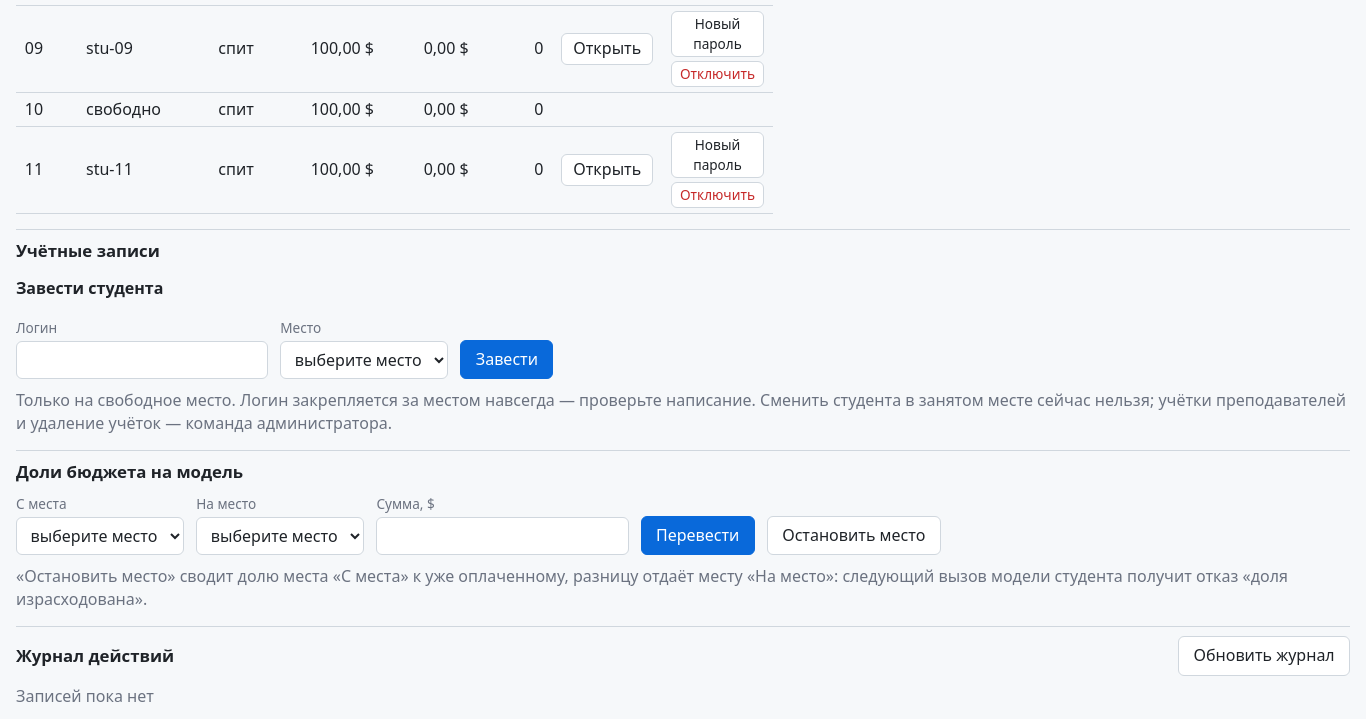
Test: stop_place_button_calls_server_and_reloads
(page scrolled)
Select "03 — stu-03" in the dropdown labelled "С места" at (100, 536), box left=16, top=517, right=184, bottom=555
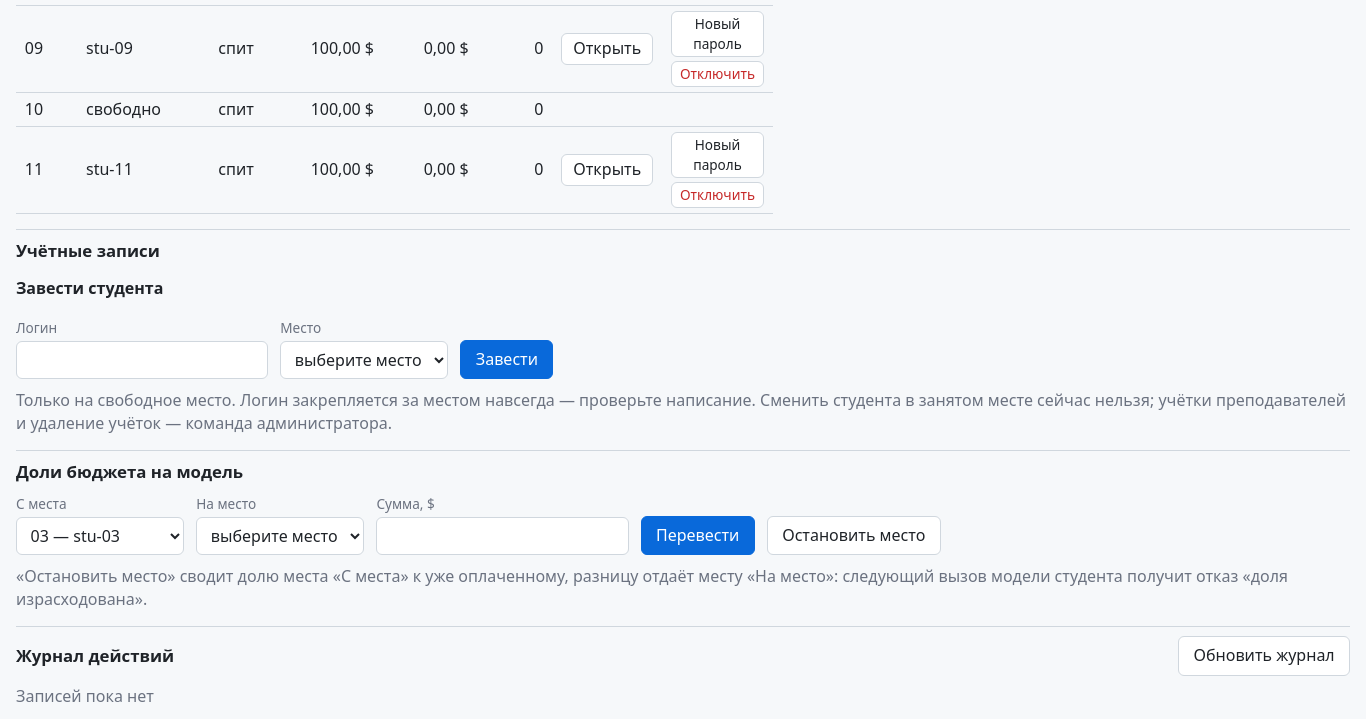
Select "05 — stu-05" in the dropdown labelled "На место" at (280, 536), box left=196, top=517, right=364, bottom=555
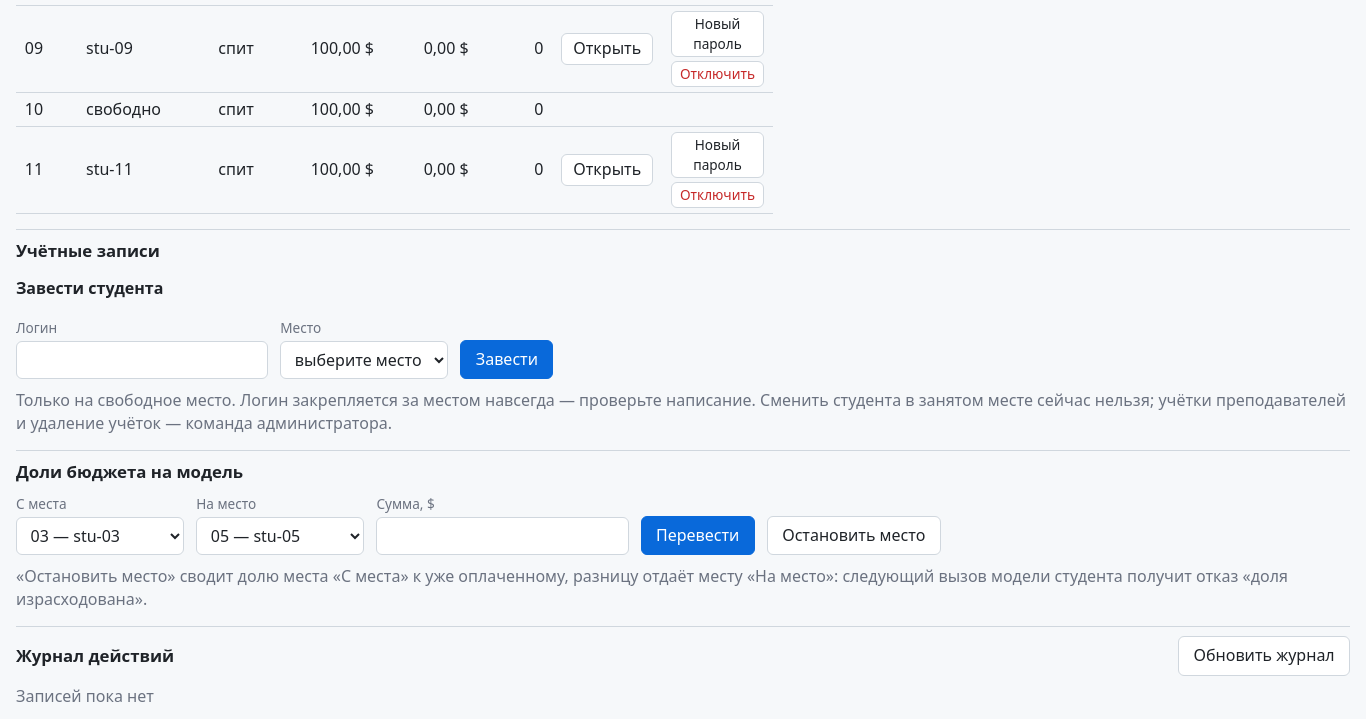
Click the button "Остановить место" at (854, 536), box left=767, top=516, right=941, bottom=555
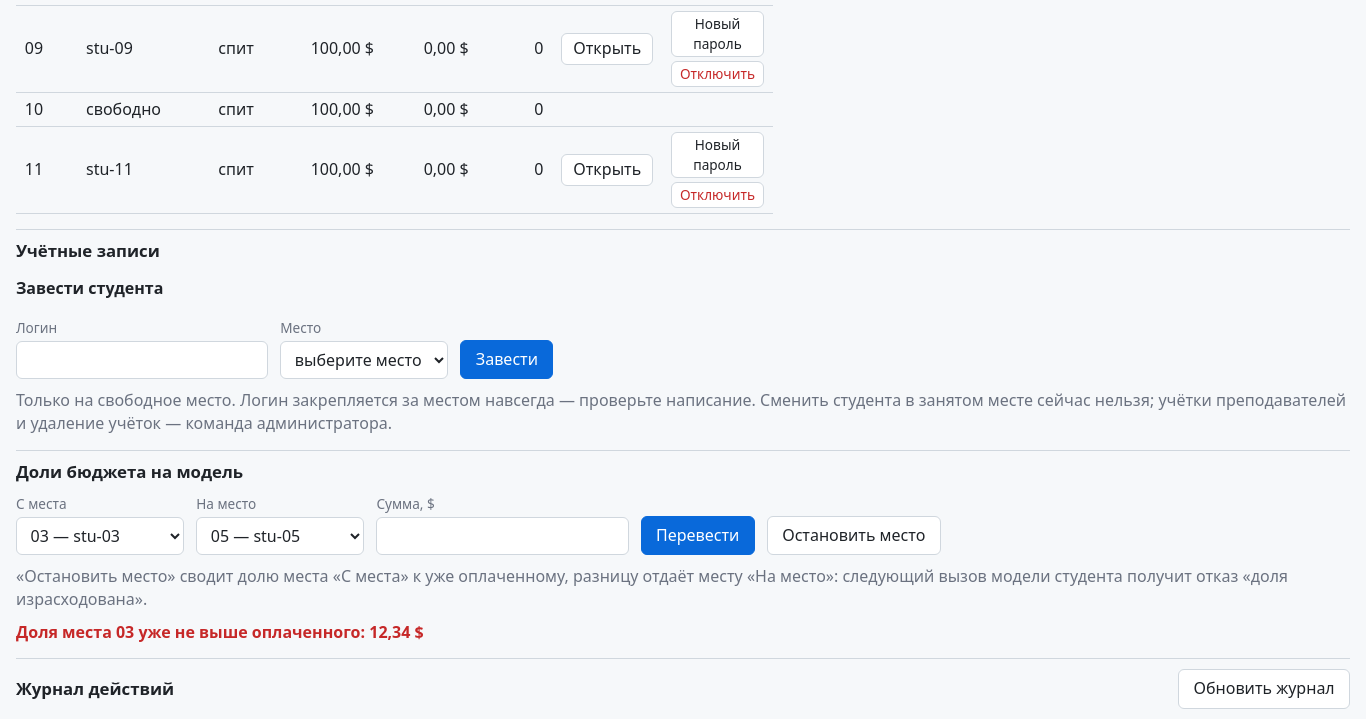
expect the text "Доля места 03 уже не выше оплаченного: 12,34 $" is shown: met, box left=16, top=621, right=424, bottom=643
Click the button "Остановить место" at (854, 536), box left=767, top=516, right=941, bottom=555
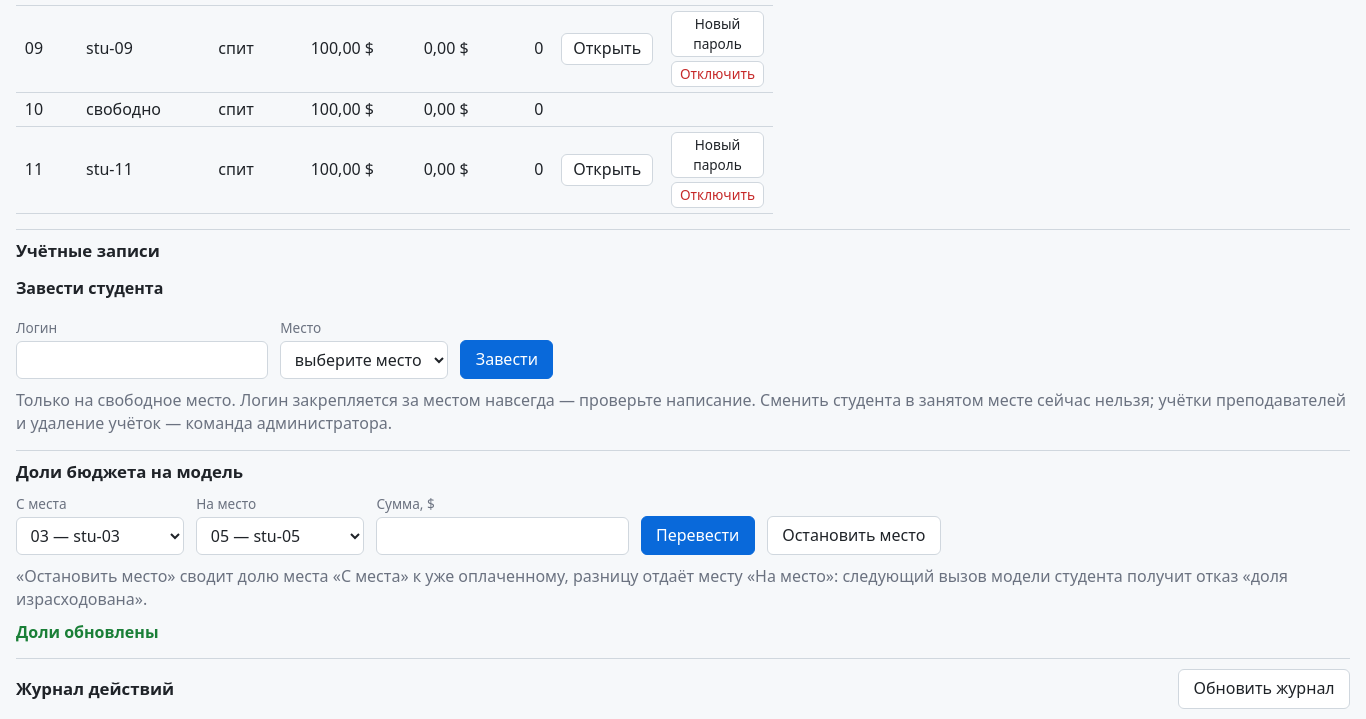
expect the text "Доли обновлены" is shown: met, box left=16, top=621, right=158, bottom=643
